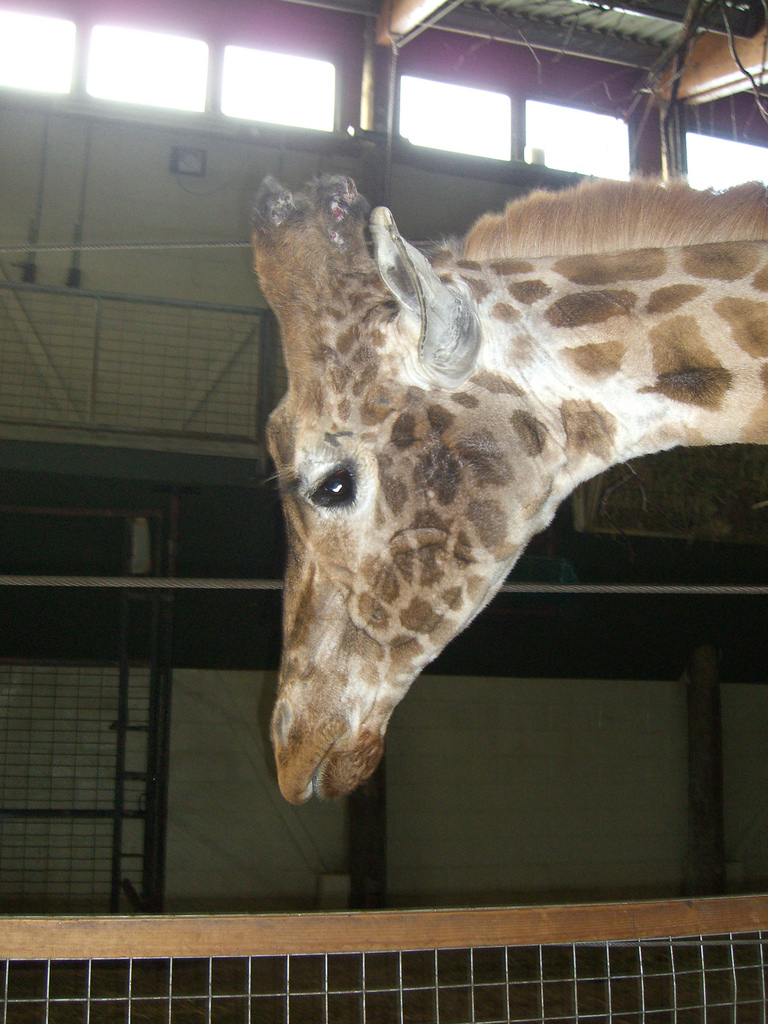giraffe: (208, 138, 756, 811)
